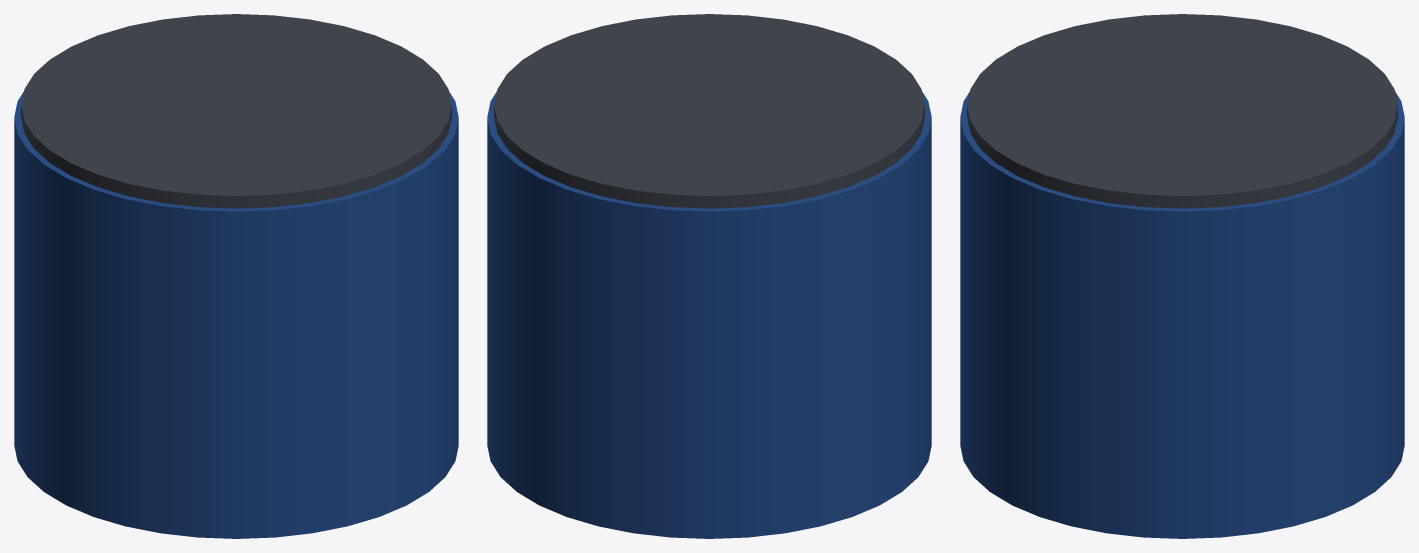
The picture shows the model from 3 angles, left to right: view 1: azimuth 30°, elevation 25°; view 2: azimuth 150°, elevation 25°; view 3: azimuth 270°, elevation 25°; orthographic projection.
Visible parts, largest first — view 1: Filtro de aceite; view 2: Filtro de aceite; view 3: Filtro de aceite.
Boxes of the visible parts, box(x1,y1,x2,y2) form: Filtro de aceite: box(14, 14, 458, 538); Filtro de aceite: box(487, 14, 931, 538); Filtro de aceite: box(960, 14, 1404, 538).
Size of the model in its own units: 1 by 0.9844 by 1.
